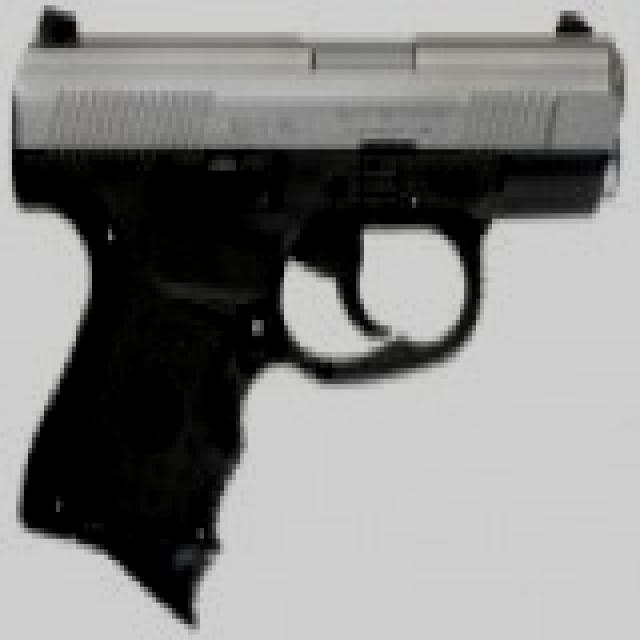pistol: (12, 0, 624, 608)
